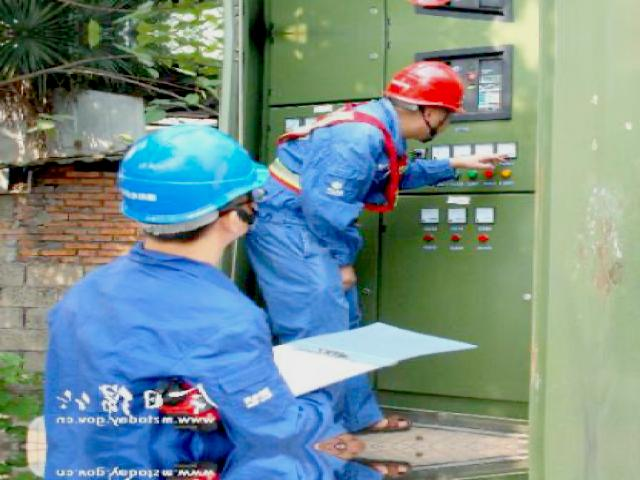Helmet: (108, 118, 277, 231), (381, 55, 473, 120)
